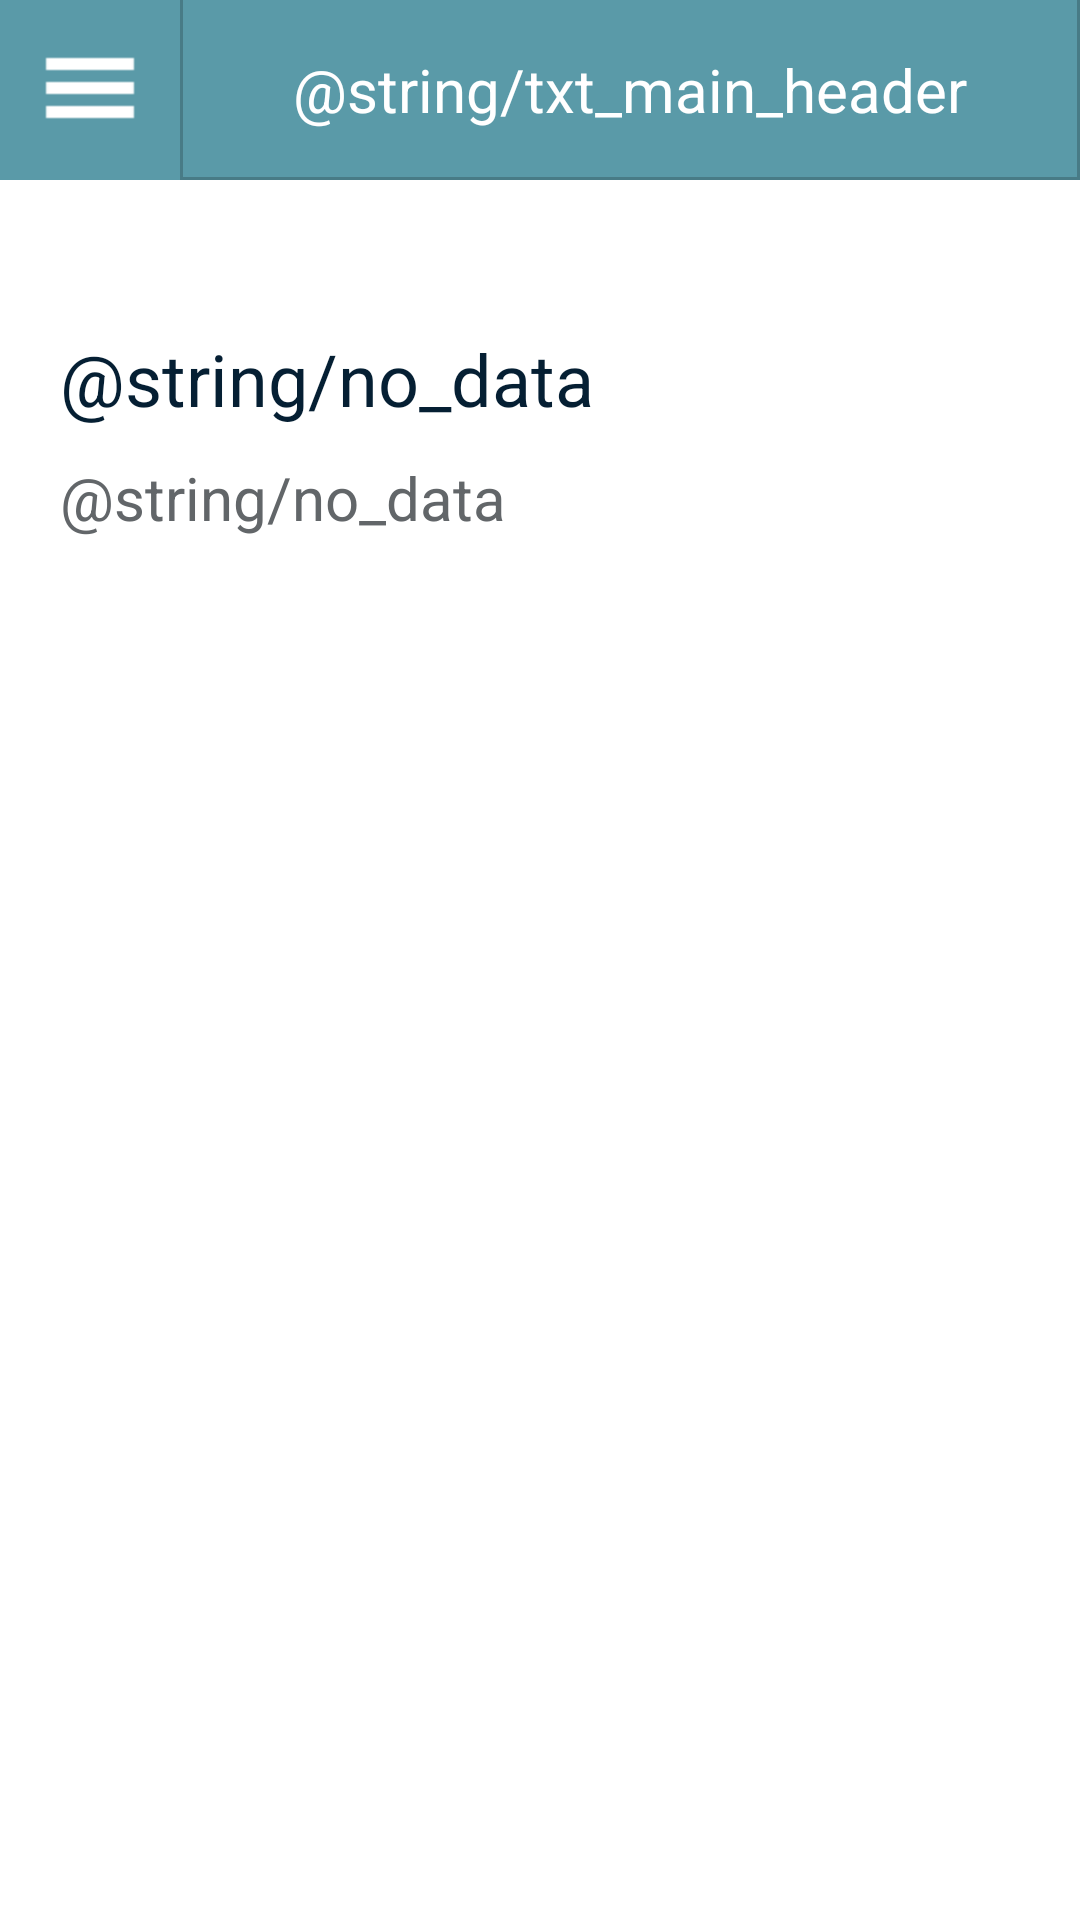

Point at icon controls on the screen. Image size 1080w x 1920h, points as (x=x, y=y).
list: (x=90, y=90)
